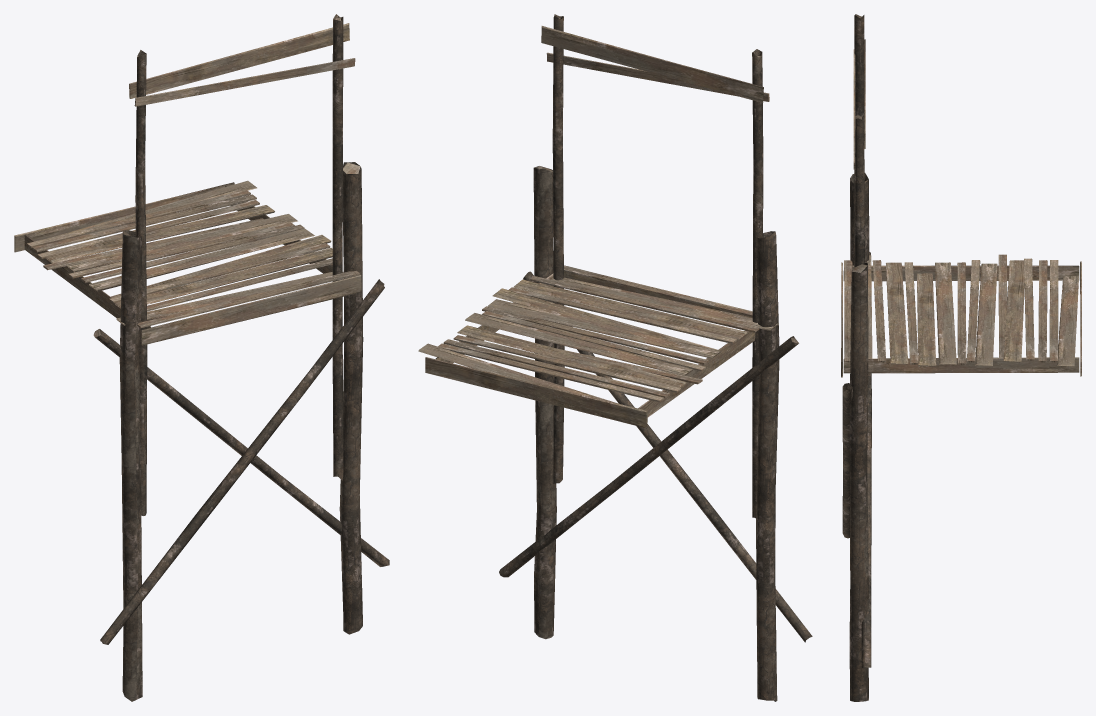
File: SM_Gangway_06.fbx
The picture shows the model from 3 angles, left to right: view 1: azimuth 30°, elevation 25°; view 2: azimuth 150°, elevation 25°; view 3: azimuth 270°, elevation 25°; orthographic projection. The views are drawn at different scales.
Visible parts, largest first — view 1: SM_Gangway_06_LOD0; view 2: SM_Gangway_06_LOD0; view 3: SM_Gangway_06_LOD0.
Boxes of the visible parts, box(x1,y1,x2,y2) form: SM_Gangway_06_LOD0: box(14, 14, 389, 701); SM_Gangway_06_LOD0: box(418, 14, 812, 701); SM_Gangway_06_LOD0: box(841, 14, 1081, 701).
Size of the model in its own units: 543 by 403 by 1117.
